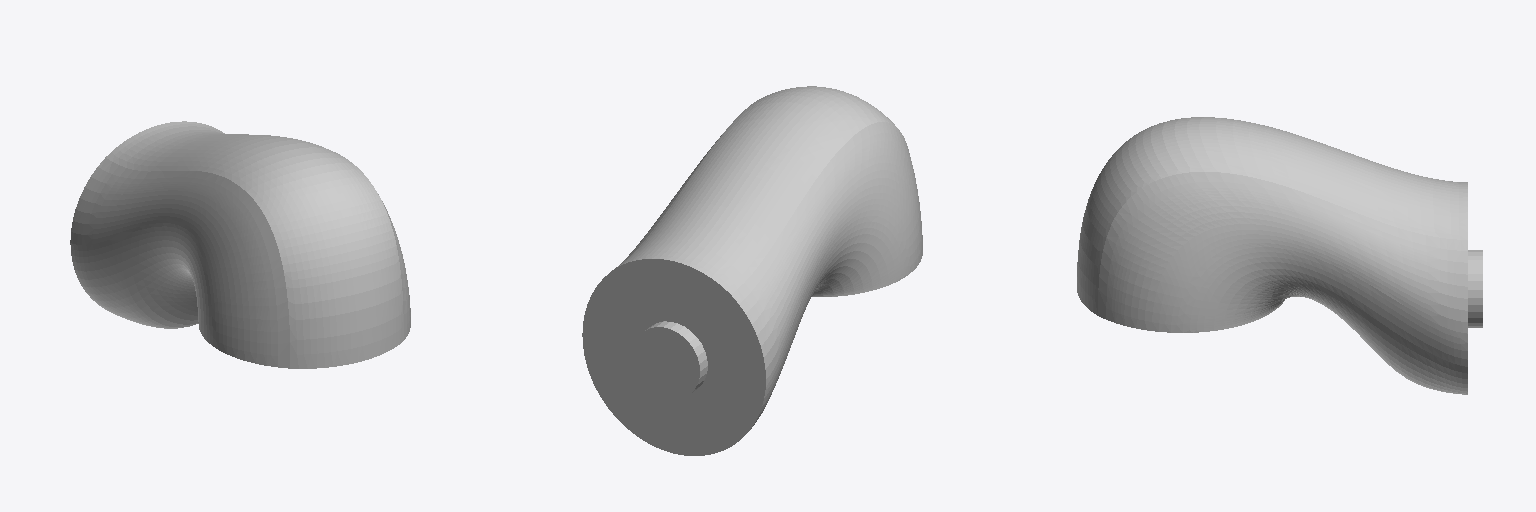
The picture shows the model from 3 angles: view 1: azimuth 30°, elevation 25°; view 2: azimuth 150°, elevation 25°; view 3: azimuth 270°, elevation 25°; orthographic projection.
Parts seen in each view (by area): view 1: link_3; view 2: link_3; view 3: link_3.
Part boxes in pixels (x1,y1,x2,y2): link_3: (70, 121, 410, 368); link_3: (582, 86, 922, 455); link_3: (1077, 117, 1482, 394).
Size of the model in its own units: 0.136 by 0.1826 by 0.2605.